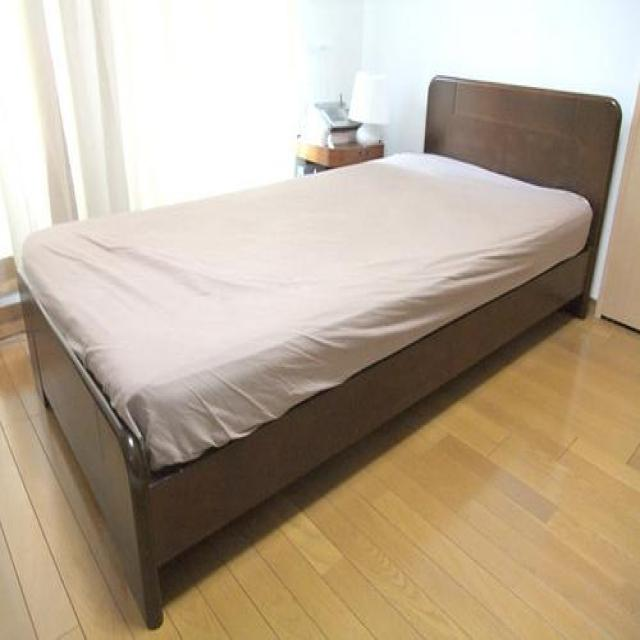bed: (20, 70, 622, 627)
